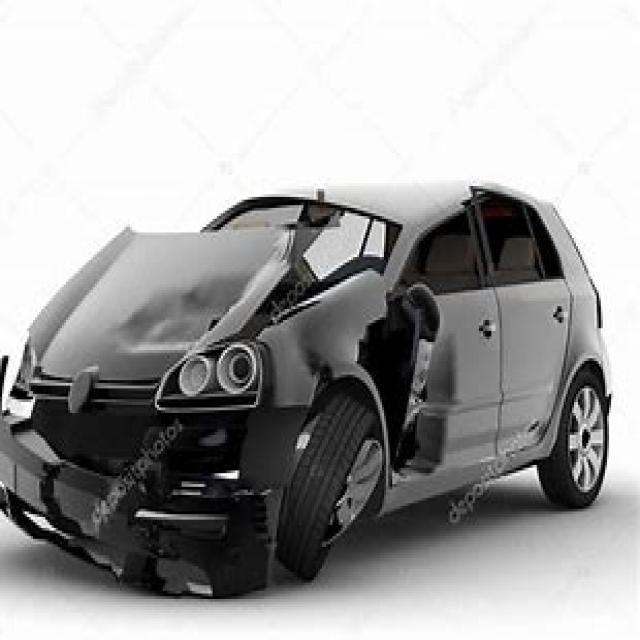Accident: (32, 145, 604, 582)
